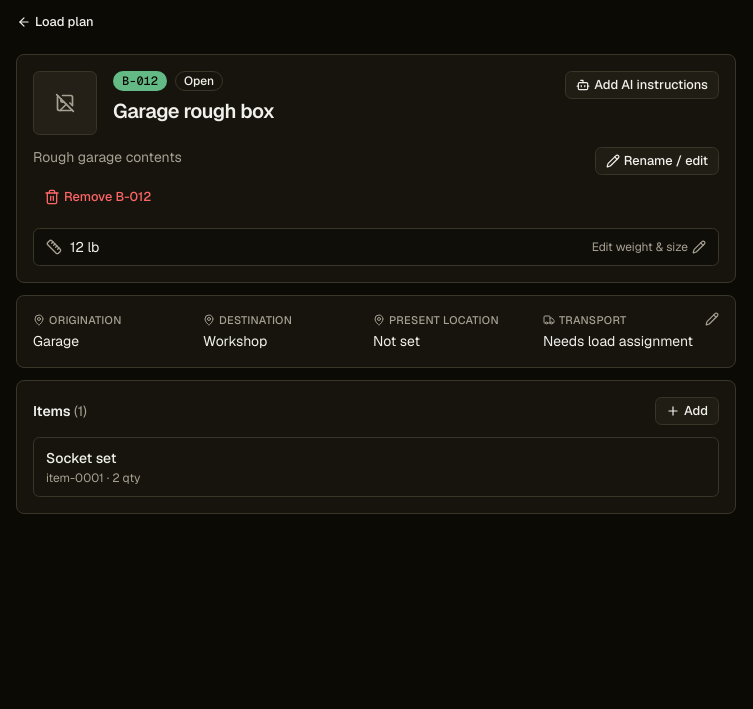
Test case: BoxLookup › cancels the details edit with Escape from the name input too
Click the button "Rename / edit" at (657, 161), box [595,147,719,175]
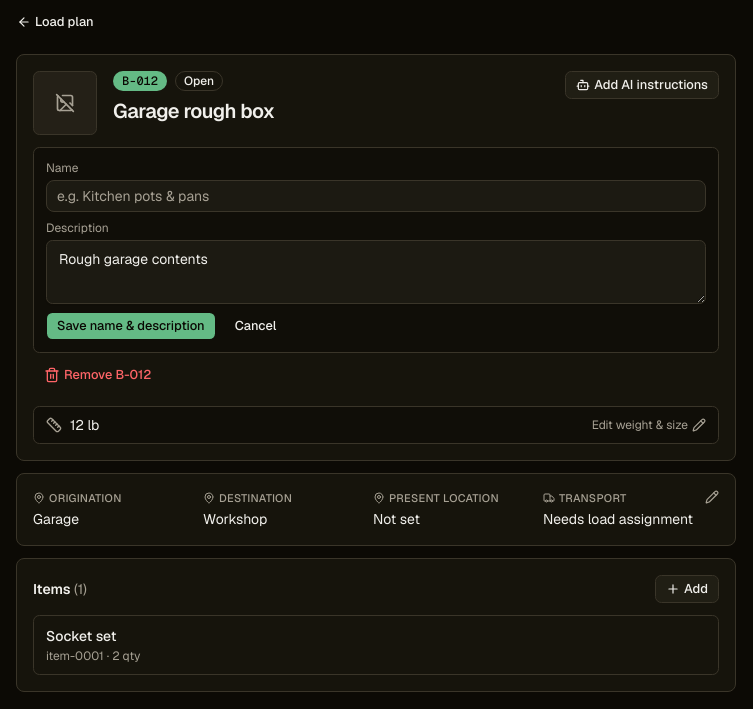
Type "Unsaved name draft" into the field named "Unit name" at (376, 196), box [46,180,706,212]
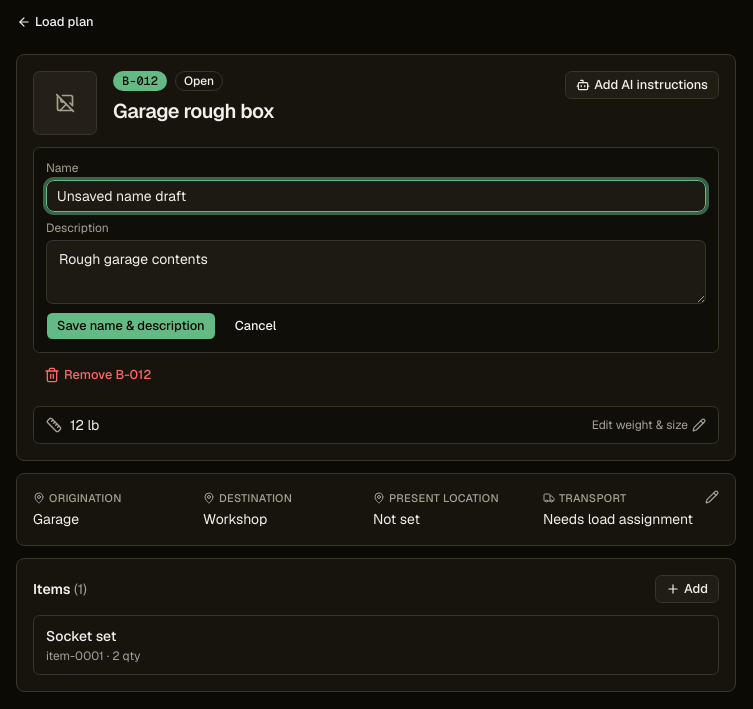
Press Escape
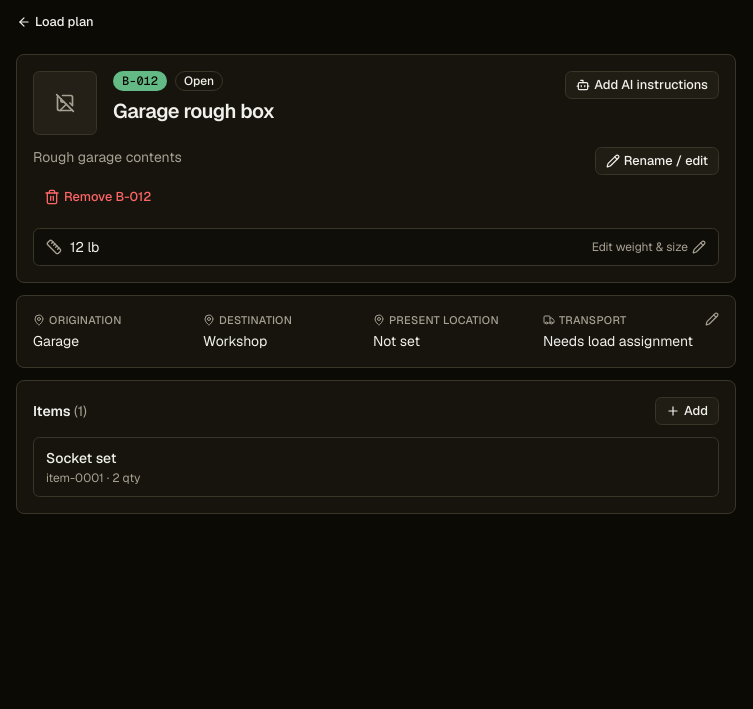
Expected: the text "Unsaved name draft" is not shown
Now the field labelled "Unit name" is gone
